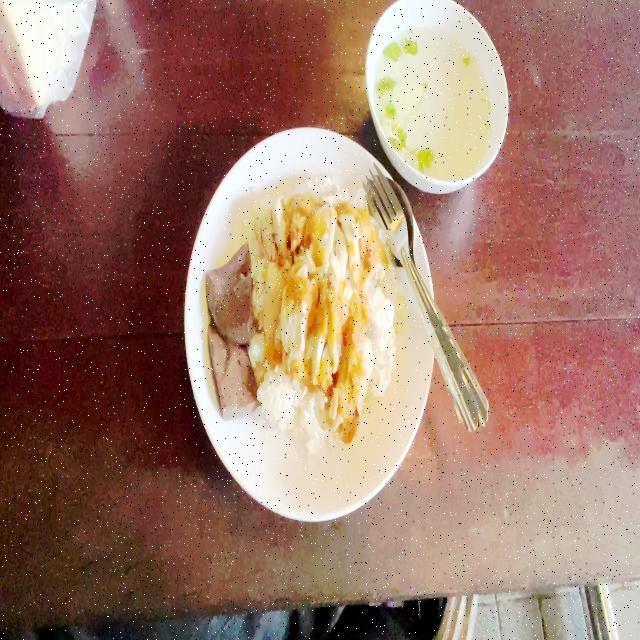boiled_chicken: (259, 204, 373, 415)
boiled_chicken_blood_jelly: (206, 241, 255, 347), (205, 317, 256, 416)
chicken_rice: (208, 177, 400, 448)
